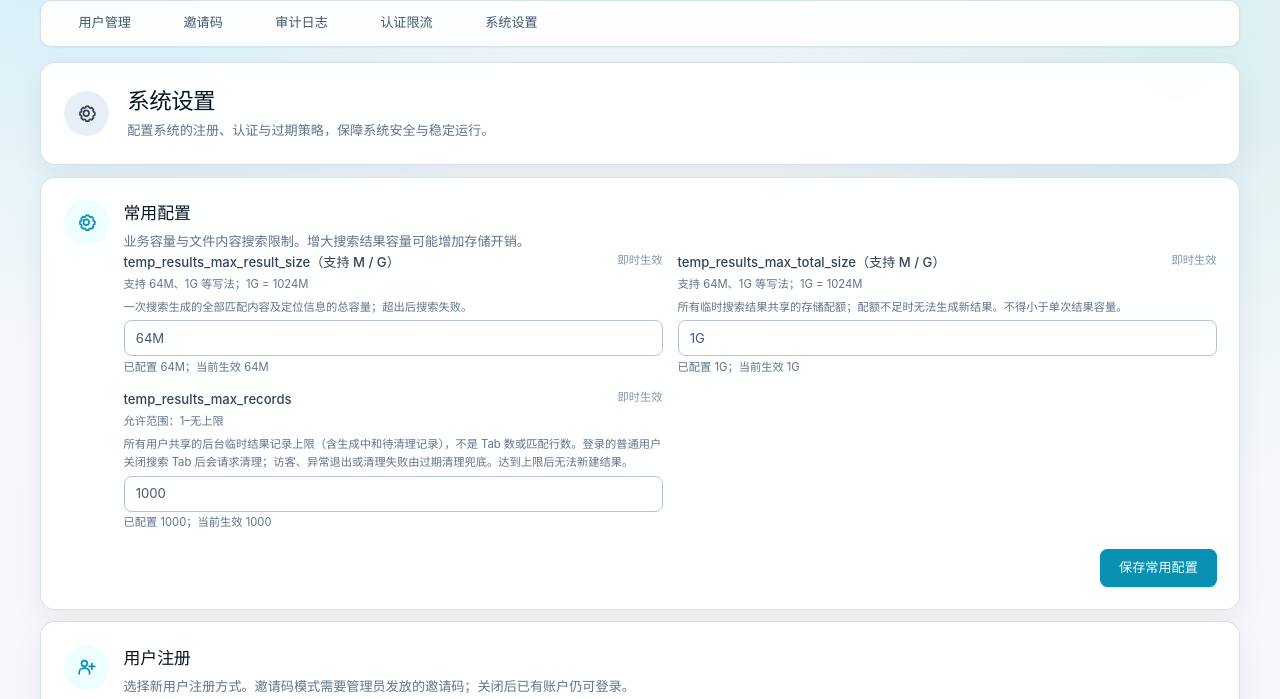
Test: edits search budgets in common settings and submits byte values
Expected: the field labelled "temp_results_max_total_size" holds "1G", [678,320,1216,356]
Step 1. Replace the text in the field labelled "temp_results_max_result_size" with "128M" → (393, 338), box [124,320,662,356]
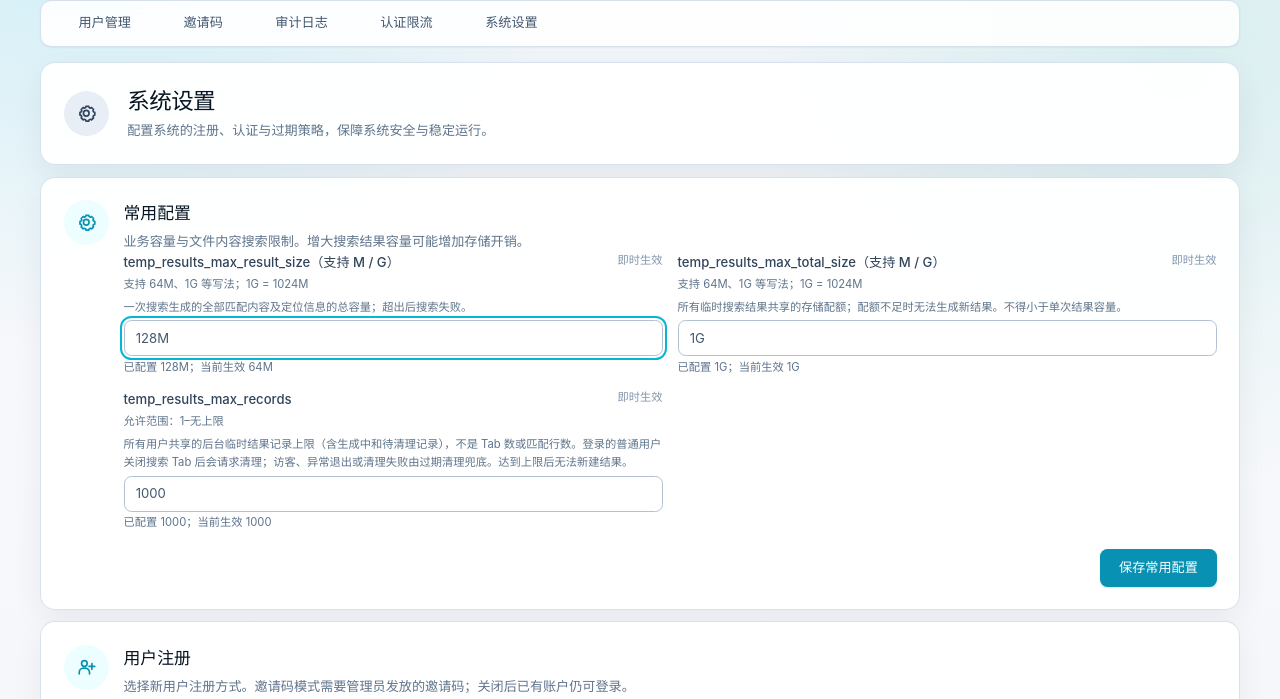
Step 2. Click the button "保存常用配置" → (1158, 568), box [1100,549,1216,586]
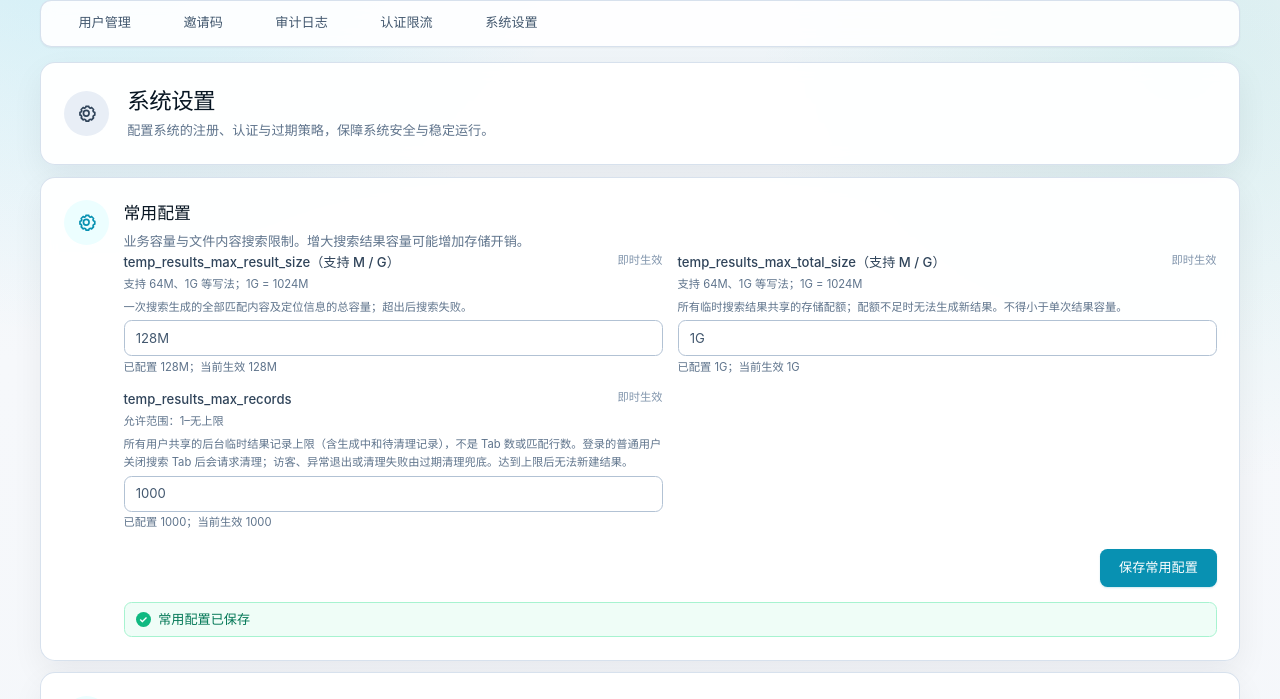
Expected: the text "常用配置已保存" is shown, [158,611,250,627]
